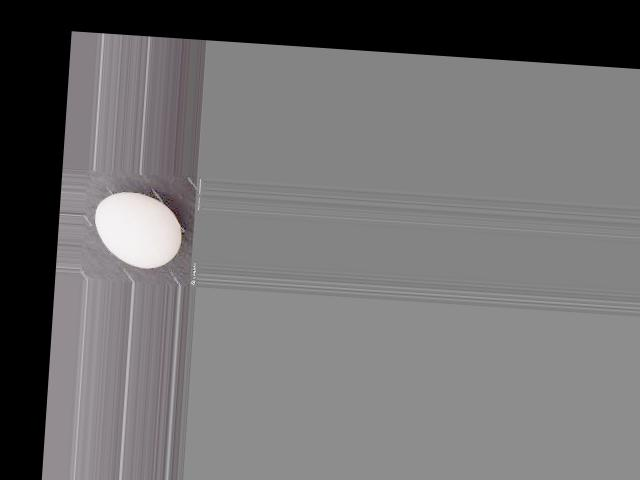egg: (92, 189, 184, 270)
